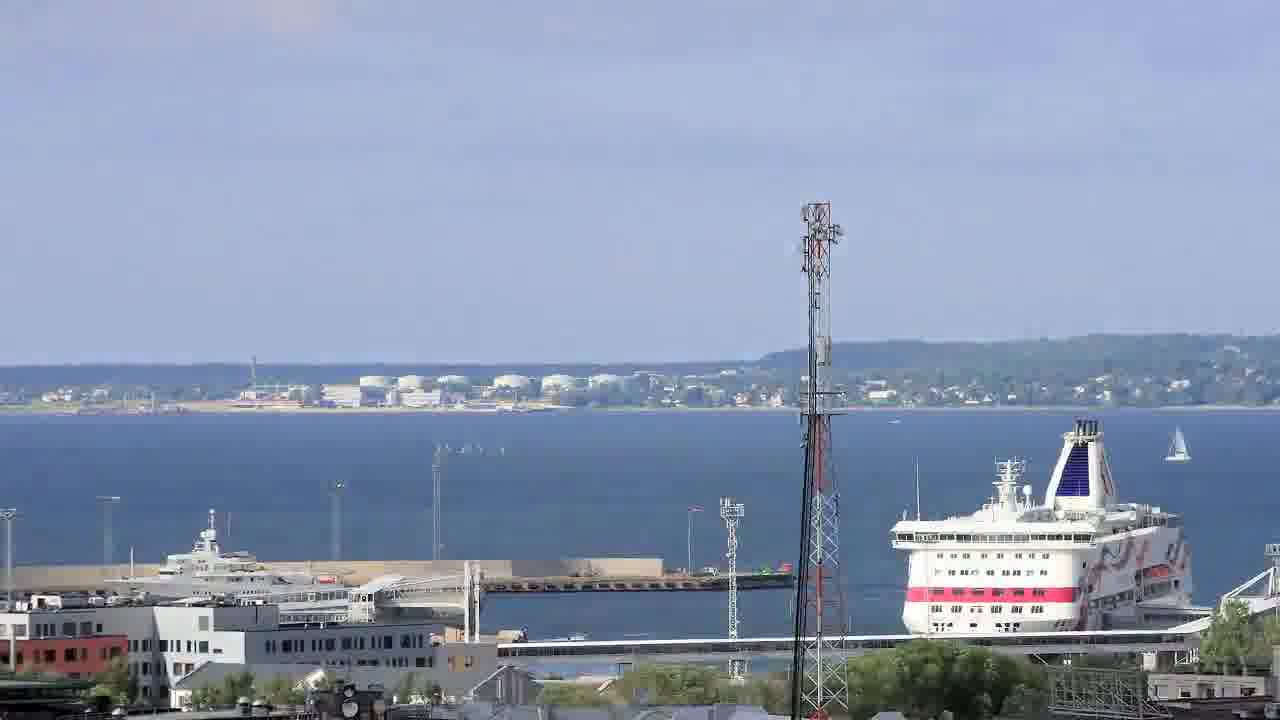type-2: (1153, 421, 1207, 475)
type-3: (868, 415, 1225, 638), (84, 537, 359, 610)
